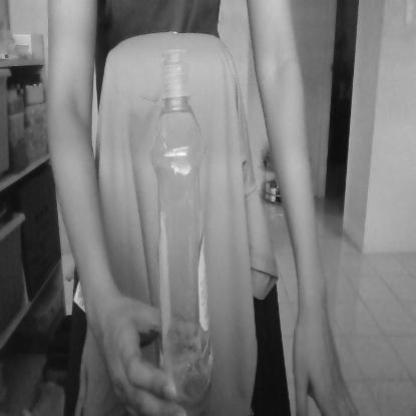Plastic Bottle: (150, 50, 219, 416)
